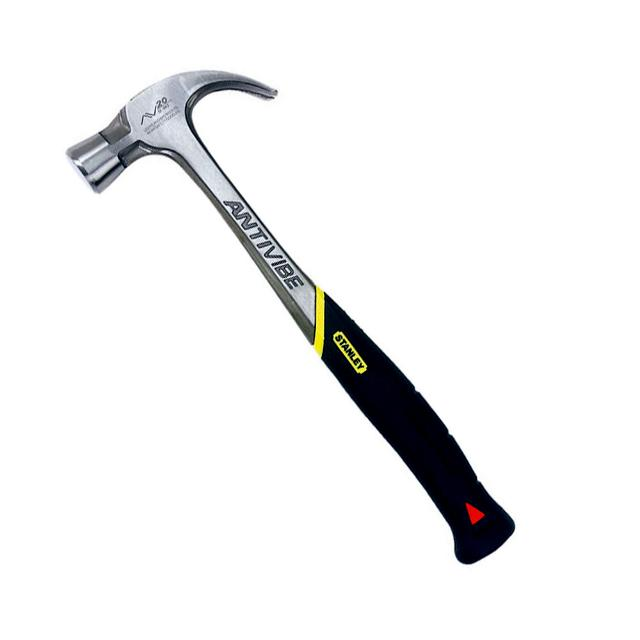hammer: (59, 61, 526, 571)
